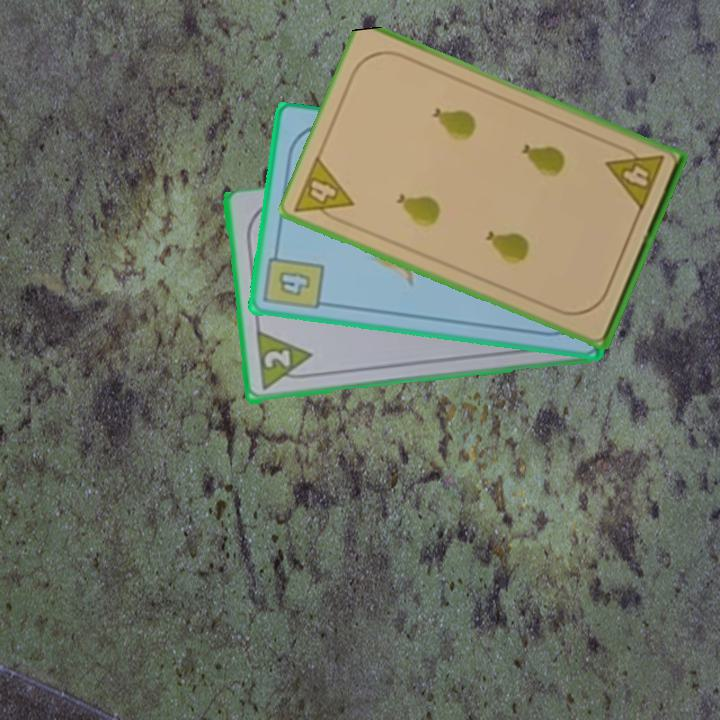2p: (260, 346, 293, 371)
4b: (260, 243, 327, 313)
4p: (291, 152, 357, 229), (603, 140, 666, 214)
